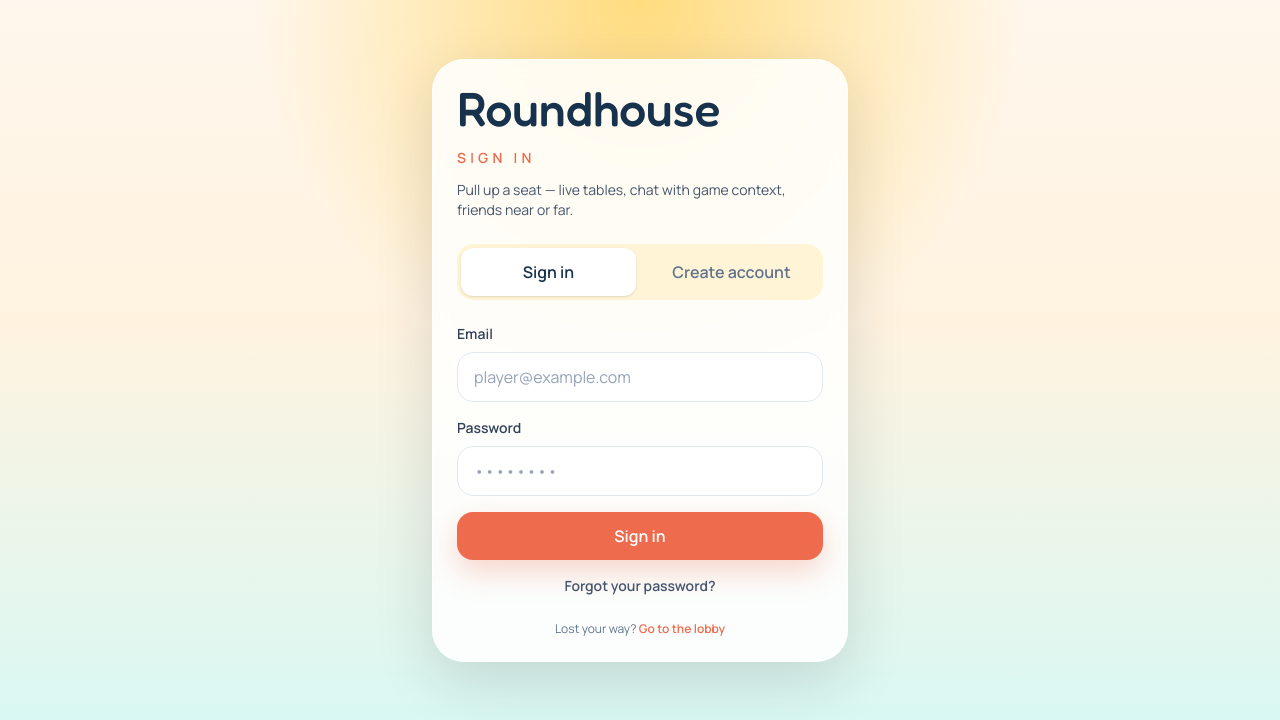
it: LoginPage recovery › asks for a reset link and says nothing about whether the account exists
The width and height of the screenshot is (1280, 720).
Click the button "Forgot your password?": coordinates (640, 586) [457,576,823,596]
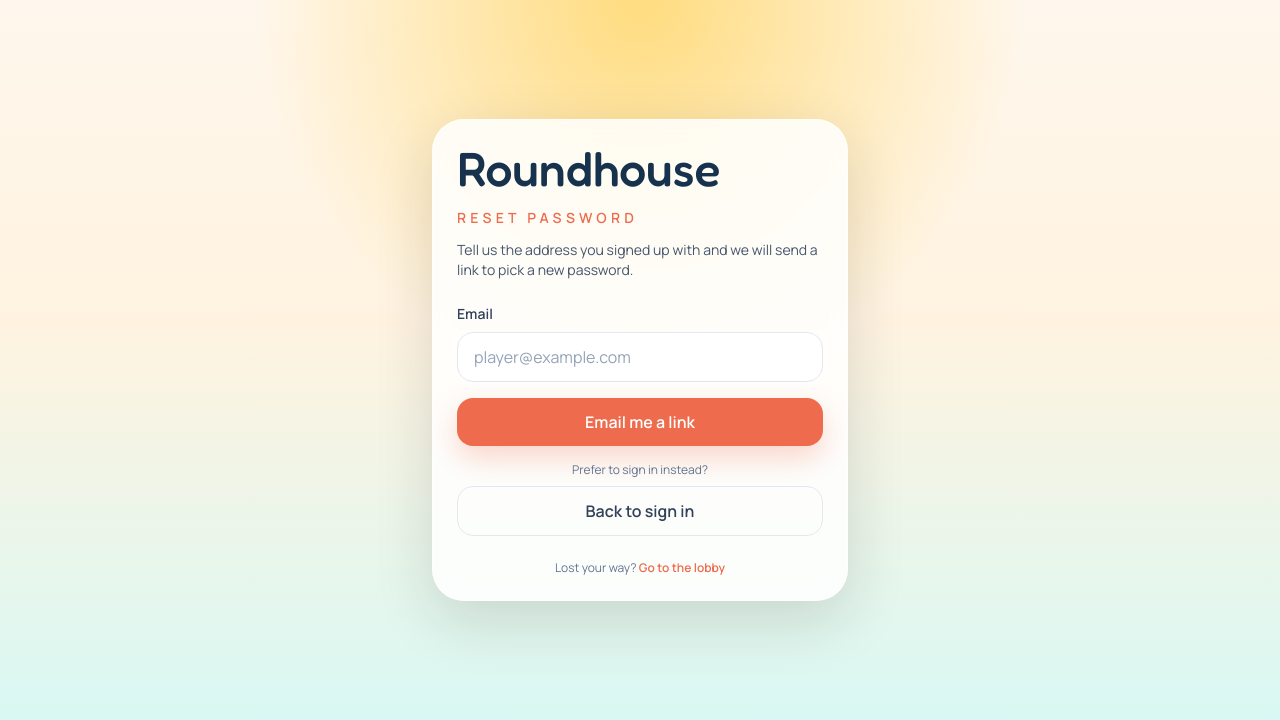
In the field labelled "Email": coordinates (640, 357) [457,332,823,382], type "ada@example.com"
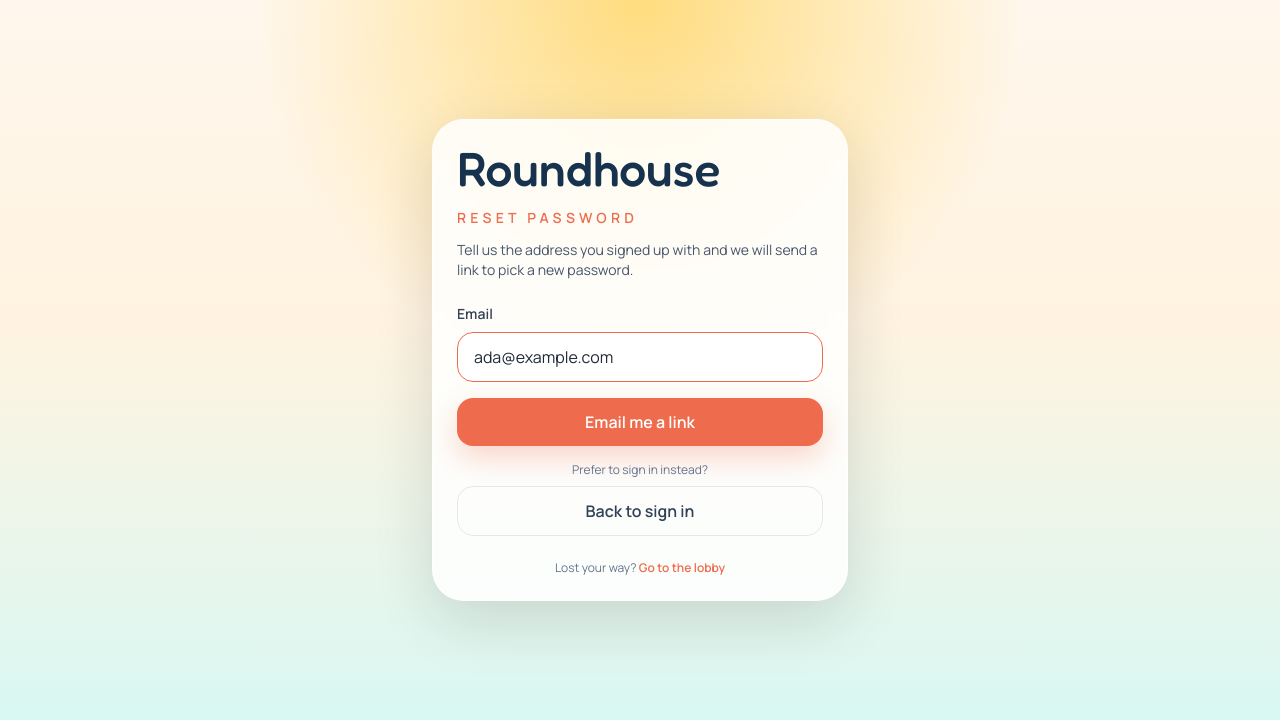
Click the button "Email me a link": coordinates (640, 422) [457,398,823,446]
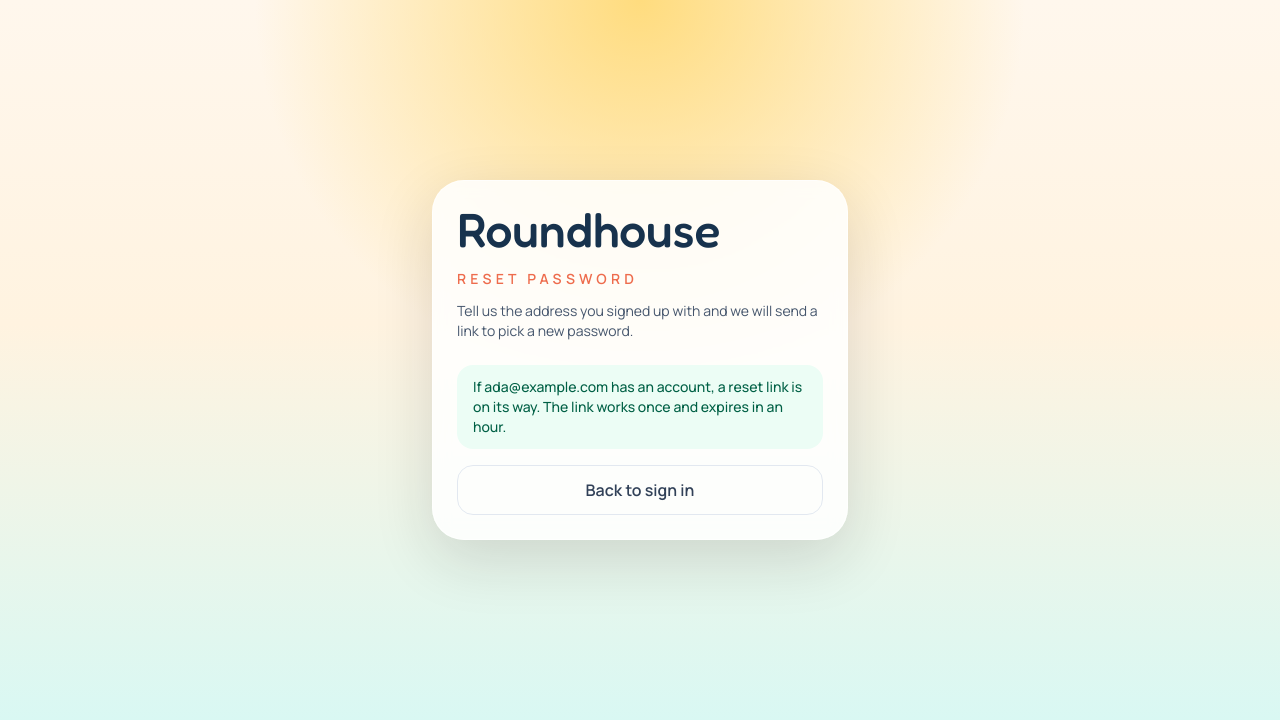
Expected: the message shows "If ada@example.com has an account", [473,377,802,436]
